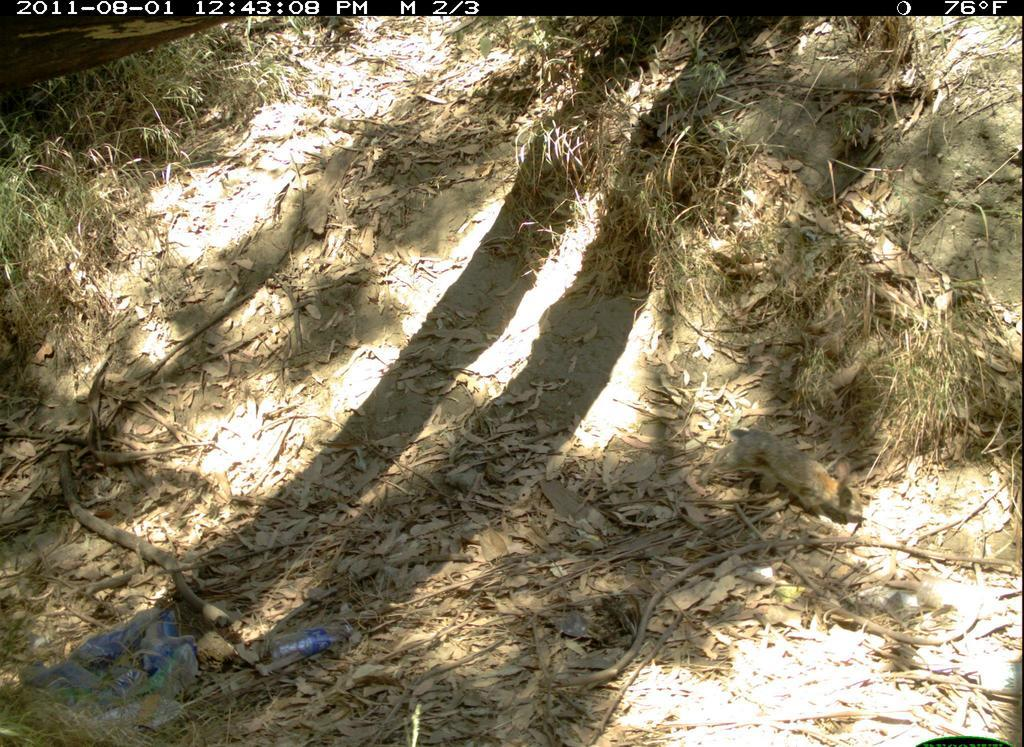rabbit: (701, 405, 881, 534)
